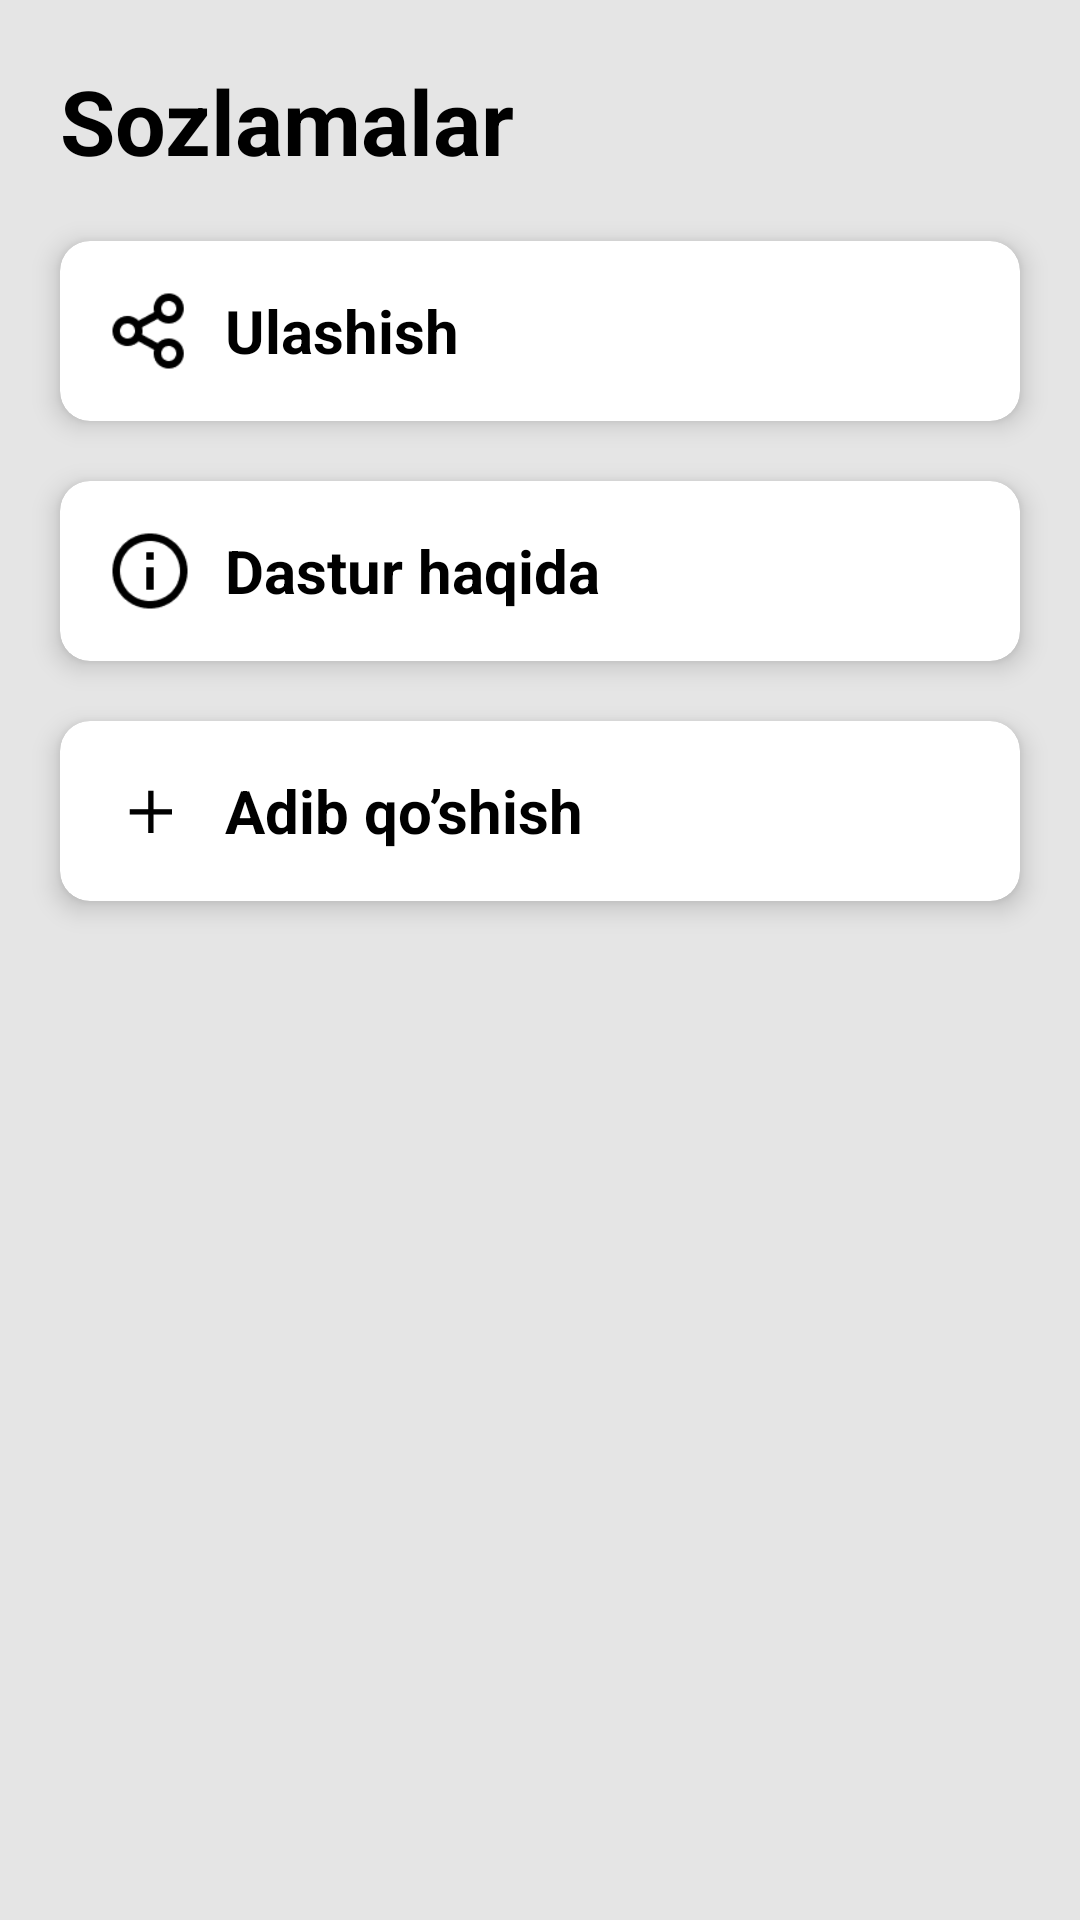

Named icons in this screenshot (1080*1920) and their bounding boxes, (x1, y1, x2, y2):
info: (112, 533, 188, 609)
pluse: (129, 790, 172, 833)
share: (112, 293, 184, 369)
